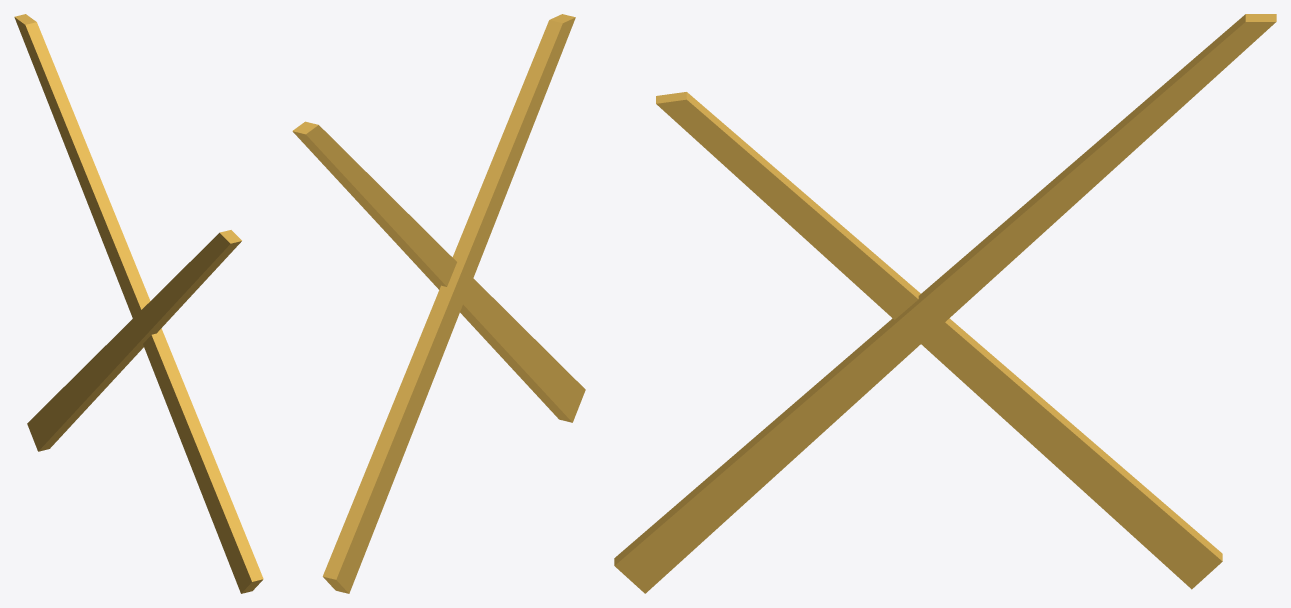
File: stand_sides.glb
3 renders of one model, left to right at view 1: azimuth 30°, elevation 25°; view 2: azimuth 150°, elevation 25°; view 3: azimuth 270°, elevation 25°, orthographic. The views are drawn at different scales.
Parts seen in each view (by area): view 1: Sides; view 2: Sides; view 3: Sides.
Boxes of the visible parts, left/top/right/bottom form: Sides: left=14, top=14, right=263, bottom=593; Sides: left=292, top=14, right=585, bottom=593; Sides: left=614, top=14, right=1276, bottom=593.
Bounding box in the file's own units: 0.0652 × 1.41 × 1.48.
